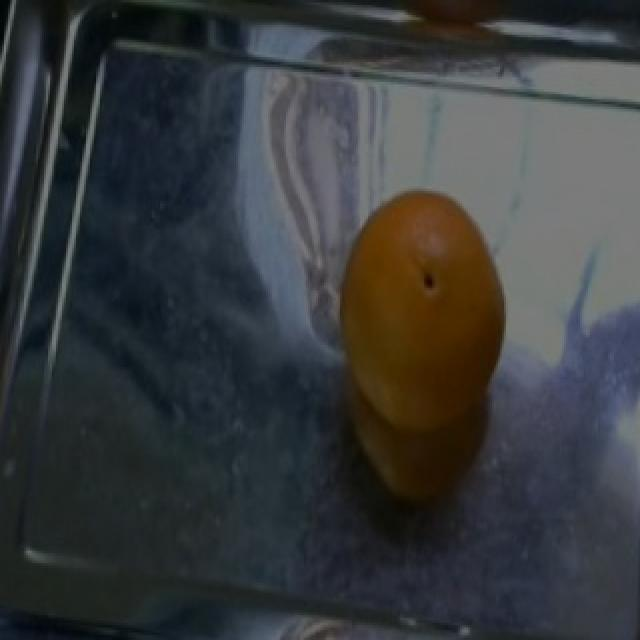Fruit: (324, 178, 518, 462)
